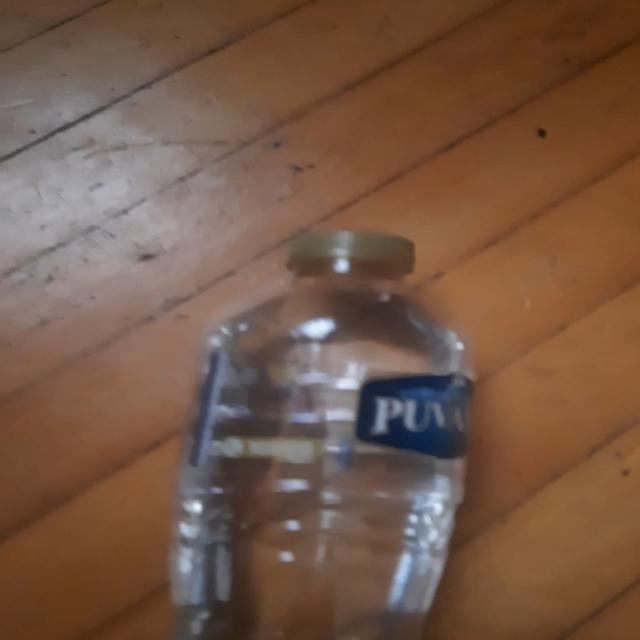Plastic: (167, 228, 476, 640), (196, 361, 465, 473), (296, 229, 412, 277)
